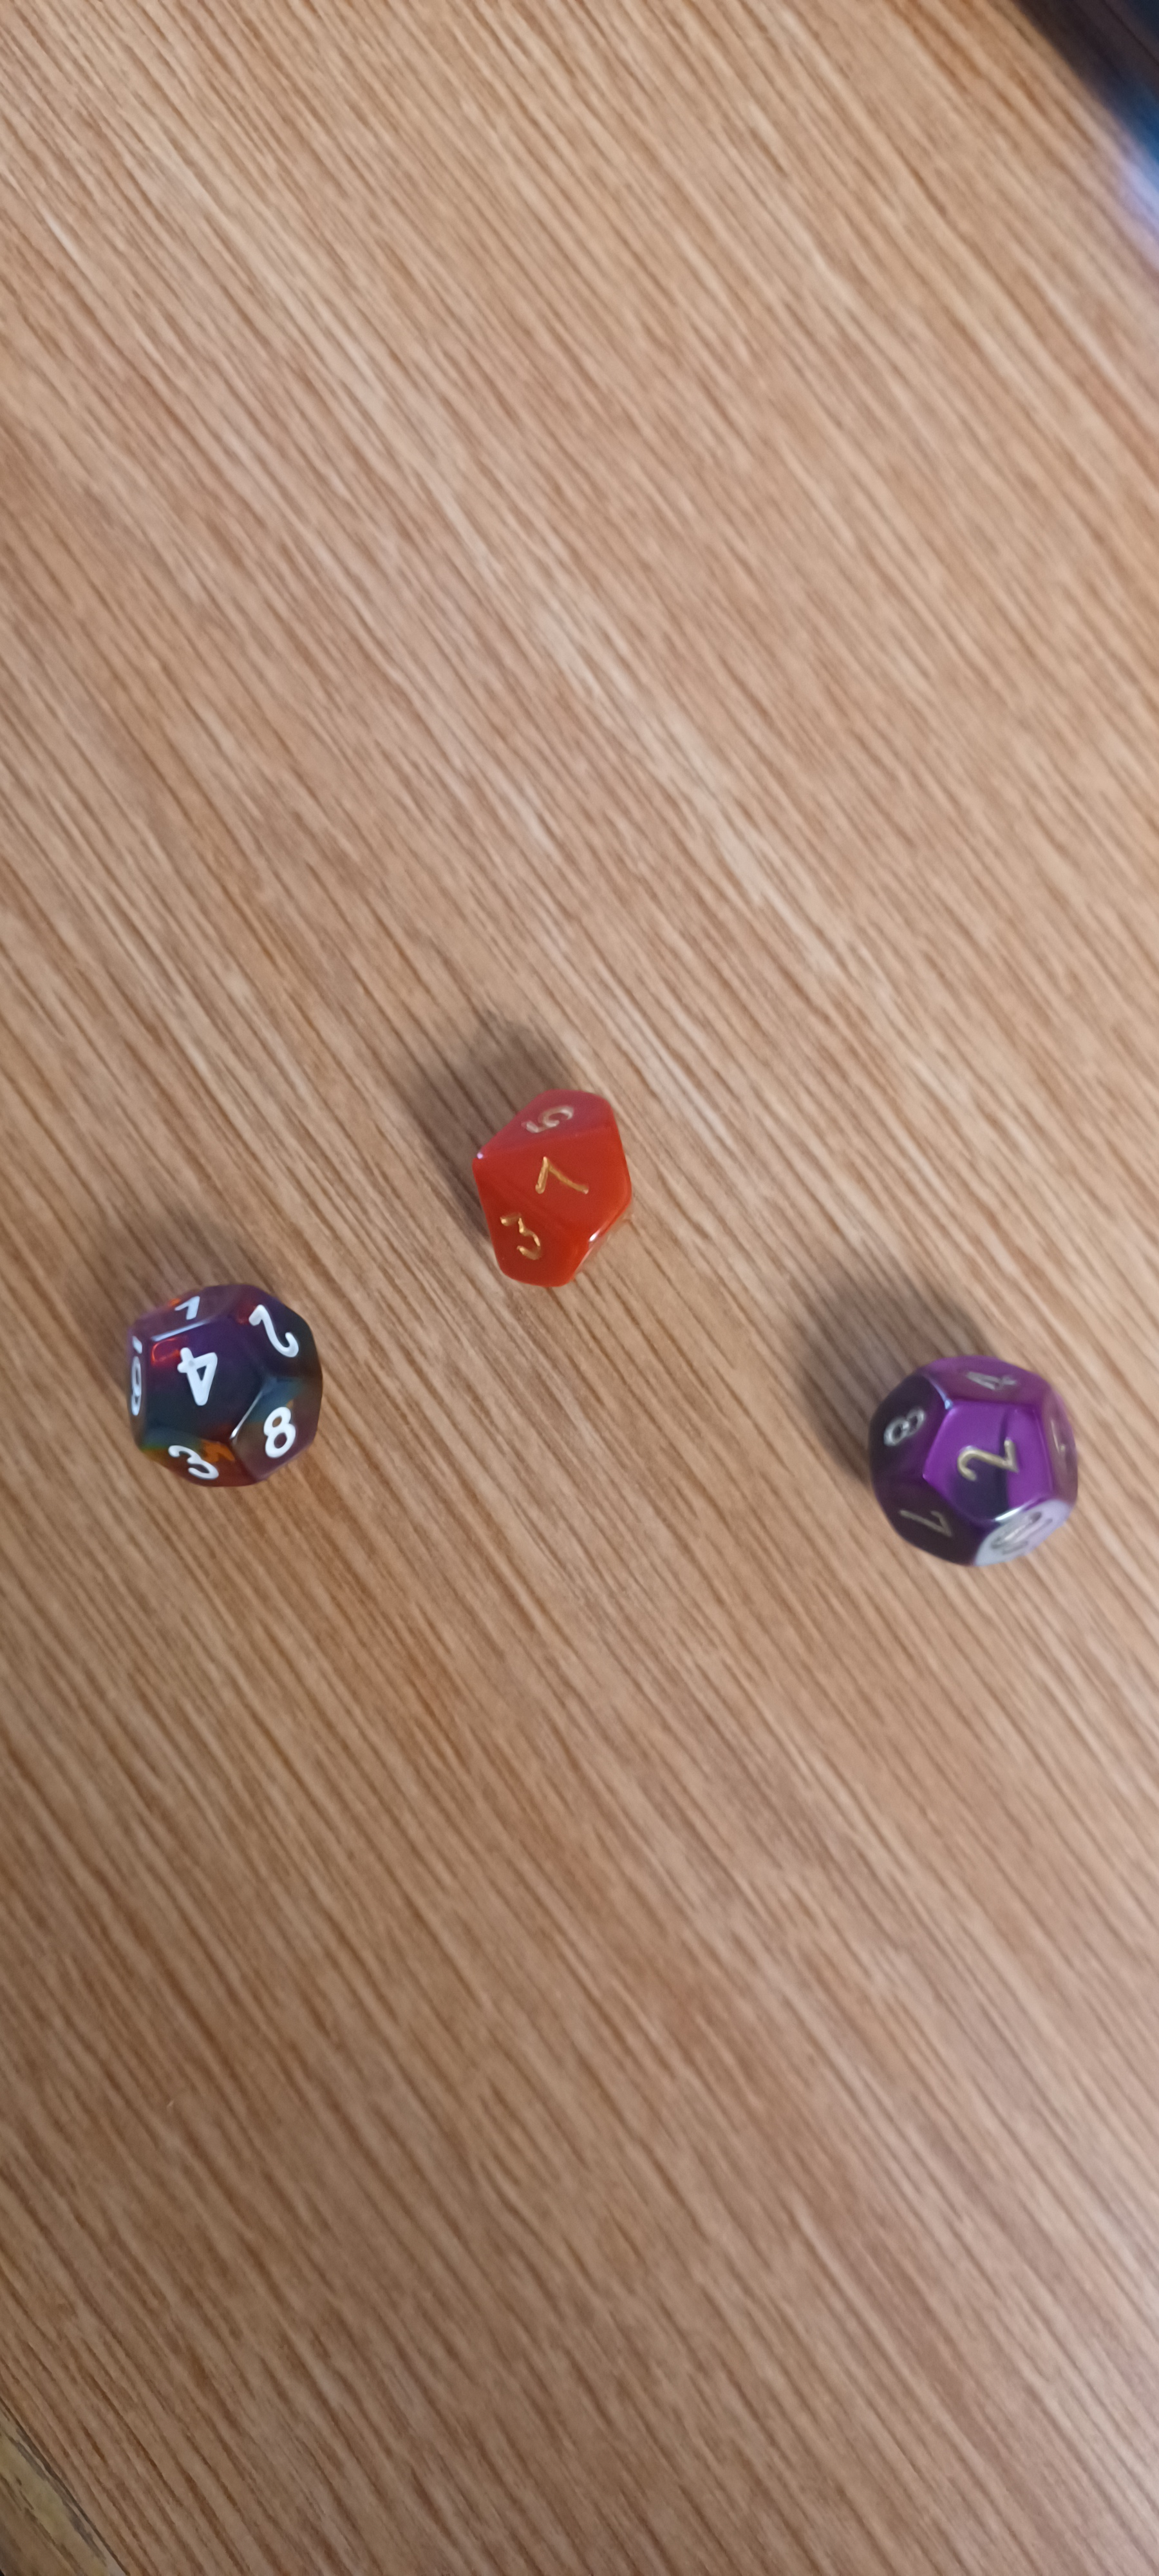four: (74, 1237, 373, 1536)
seven: (432, 1055, 688, 1309)
two: (839, 1321, 1126, 1595)
